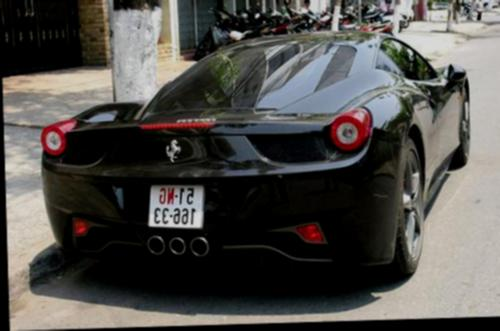License_Plate: (146, 183, 208, 230)
